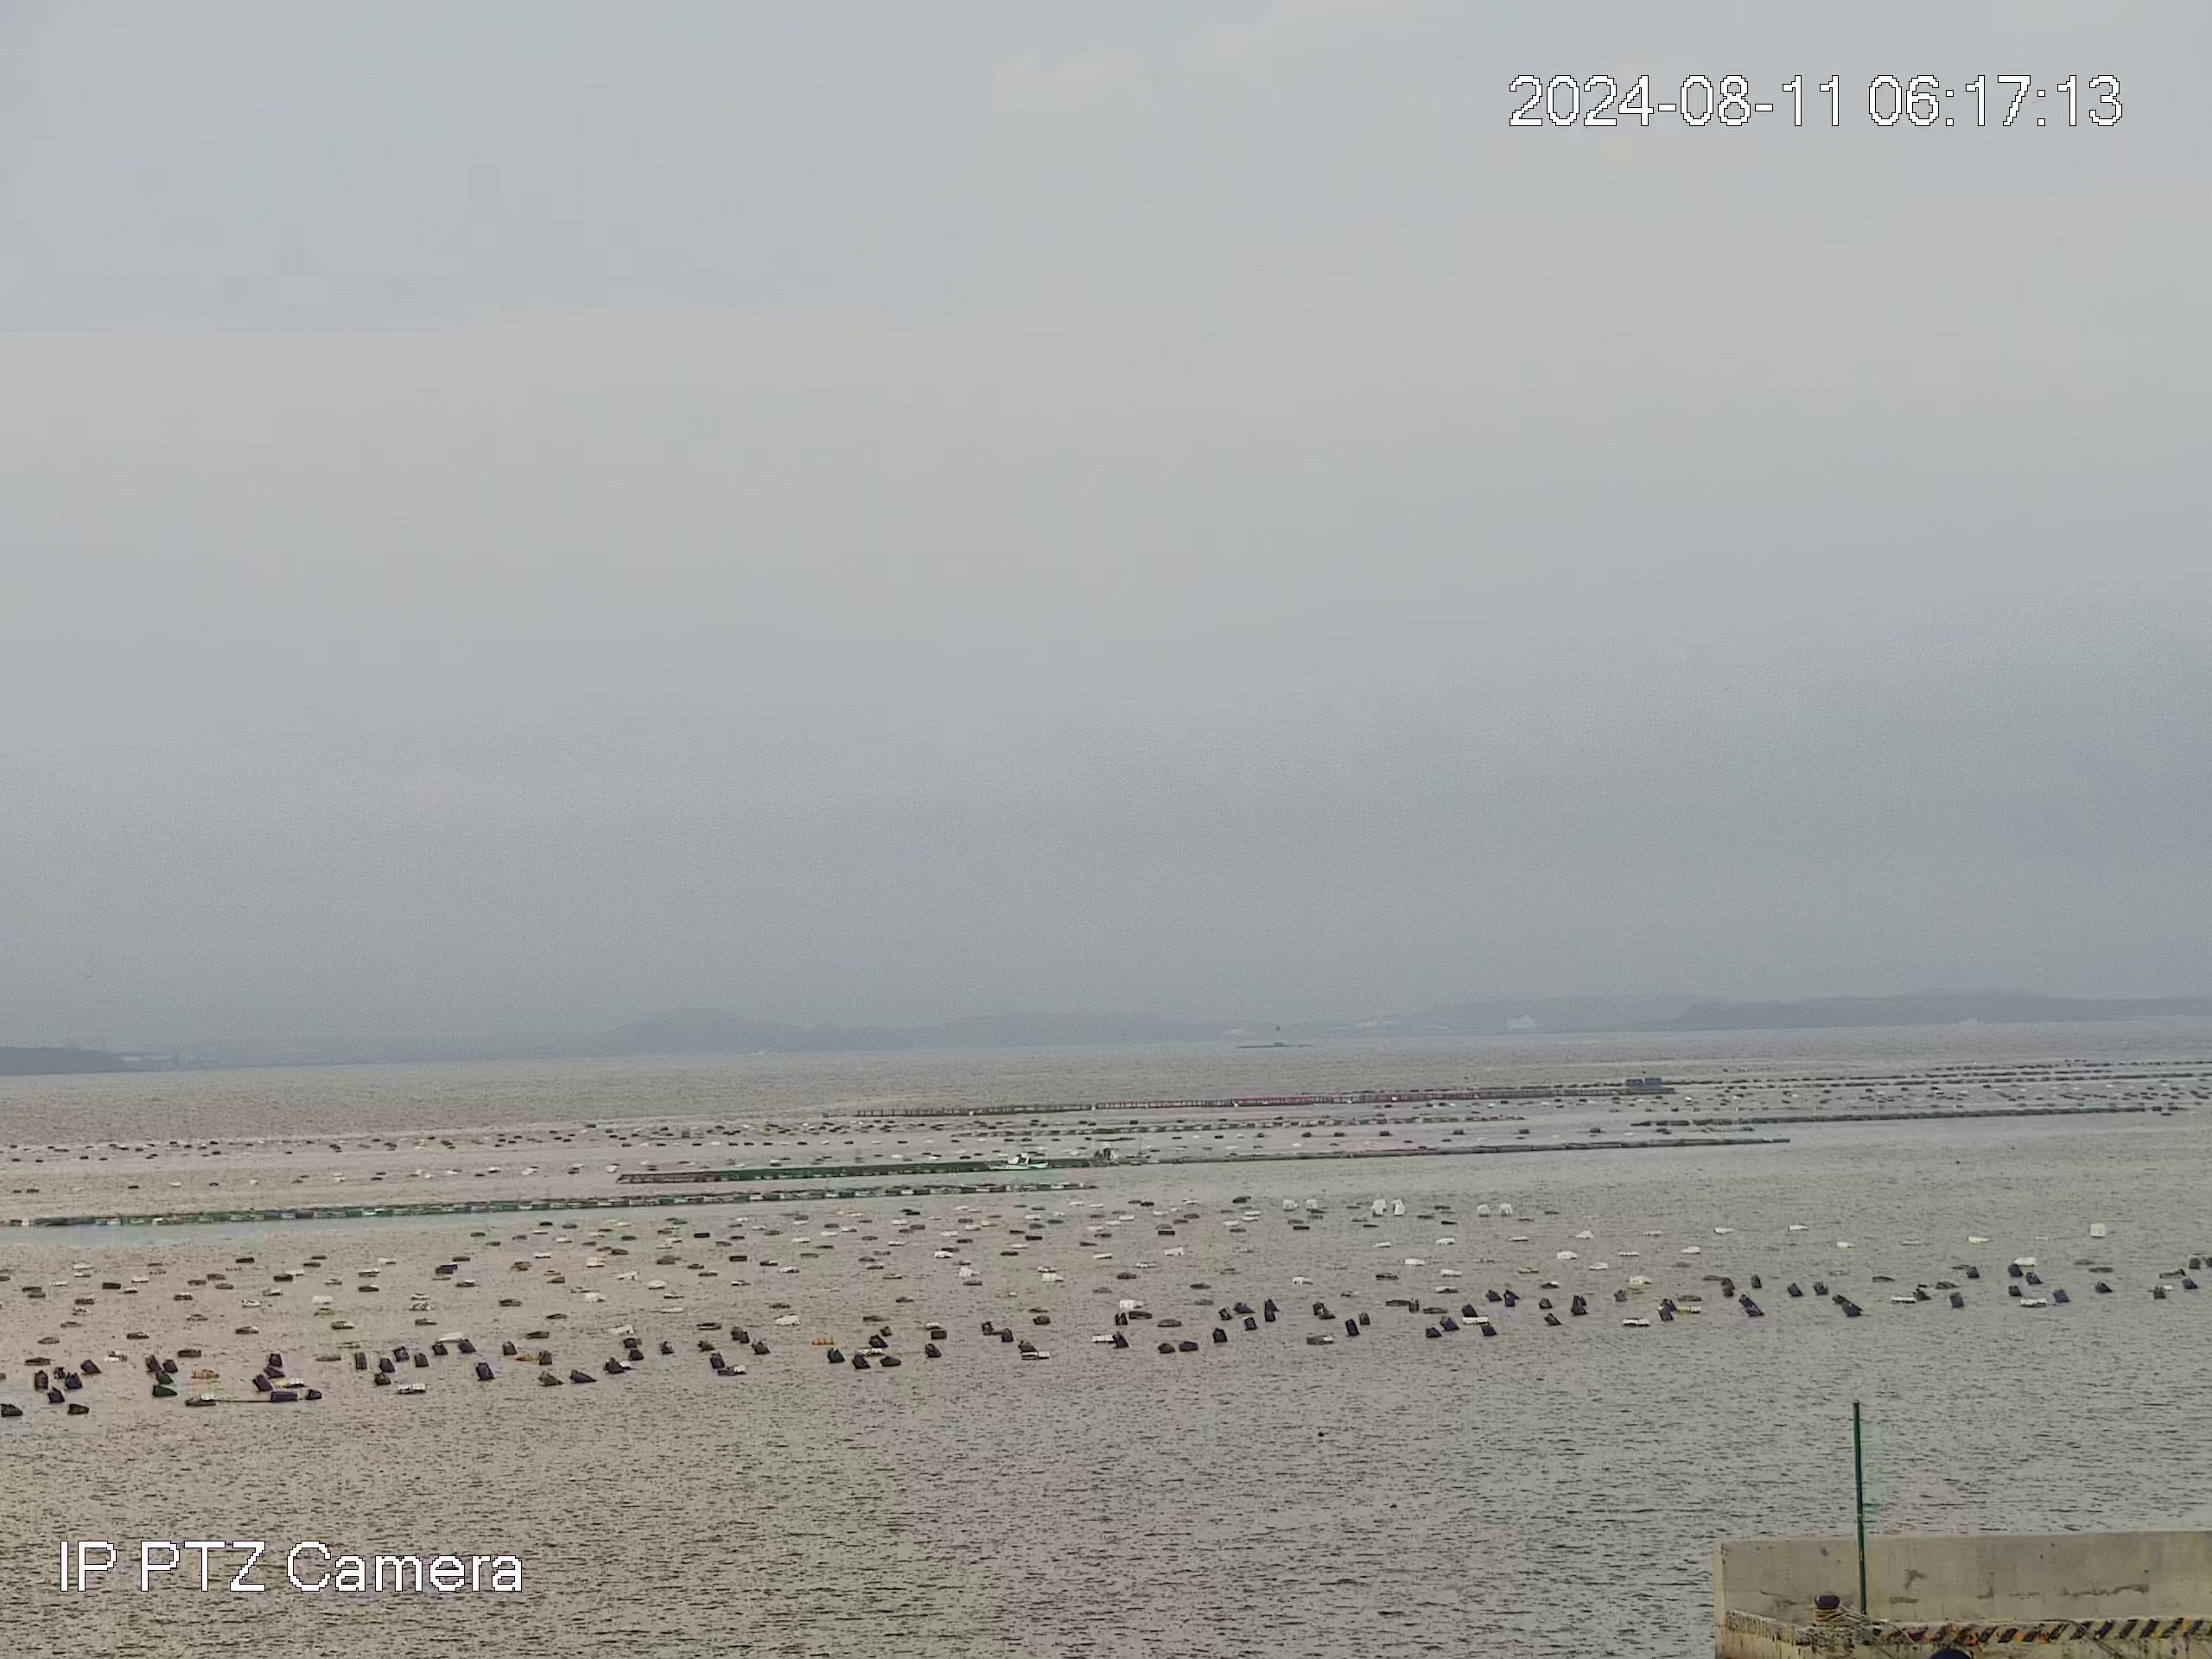boat: (982, 1148, 1050, 1173)
